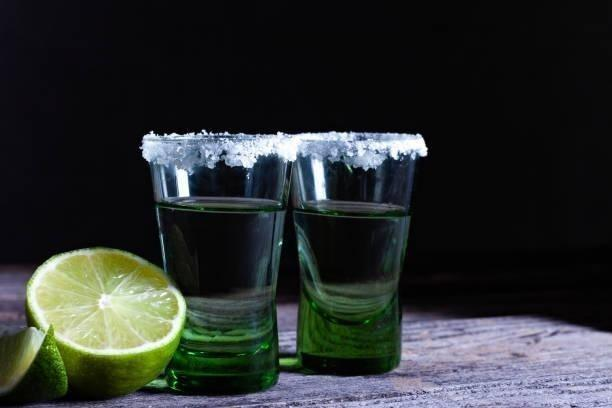glass-normal: (140, 126, 296, 396), (288, 126, 428, 379)
